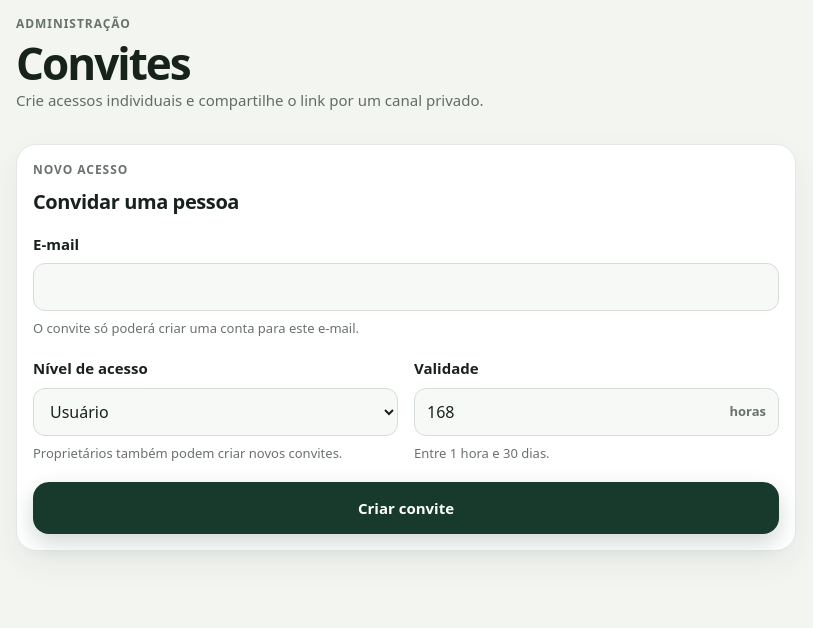
it: administração de convites › valida o DTO no navegador antes de enviar a requisição
This screenshot has width=813, height=628.
Type "endereço-inválido" into the field labelled "E-mail". click: (406, 287)
box: x1=33 y1=263 x2=779 y2=311
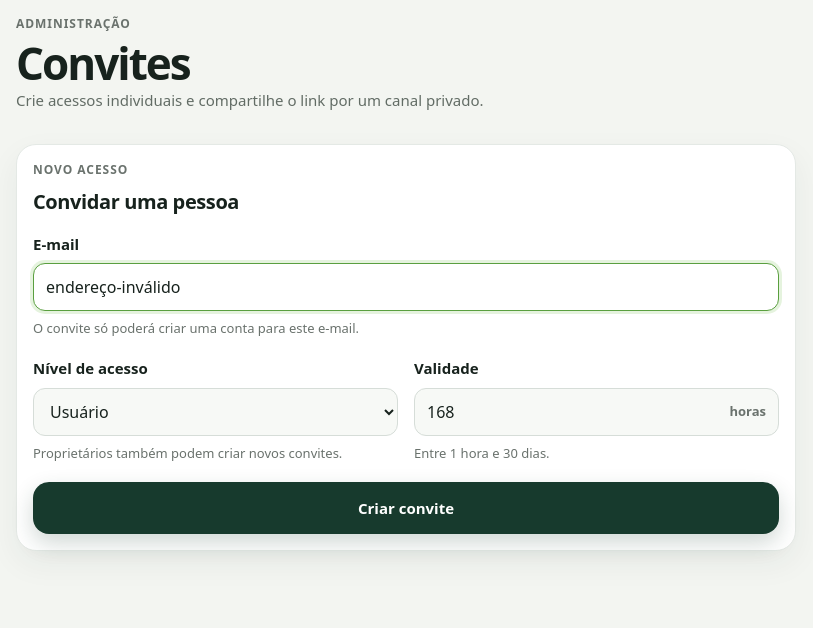
Replace the text in the number field labelled "Validade" with "721". click: (596, 412)
box: x1=414 y1=388 x2=779 y2=436
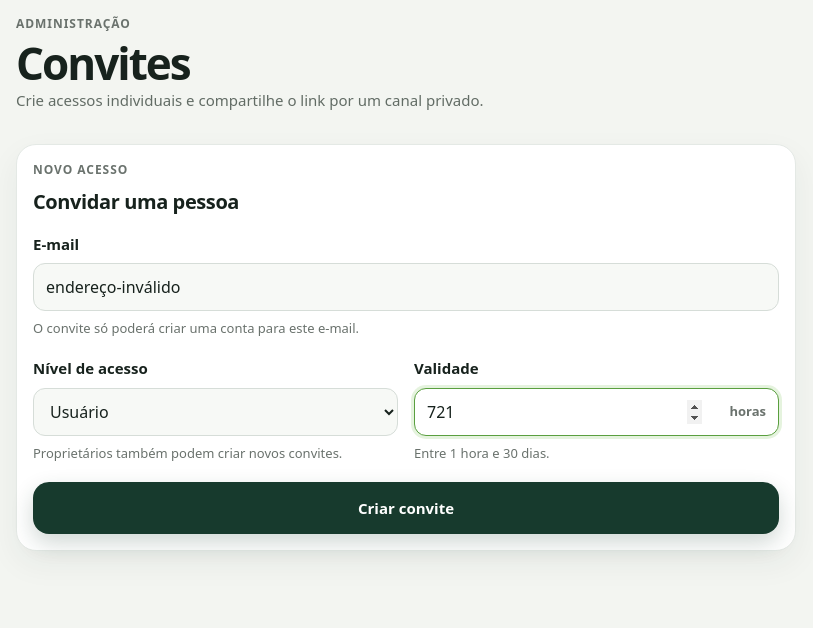
Click the button "Criar convite". click: click(406, 508)
box: x1=33 y1=482 x2=779 y2=534
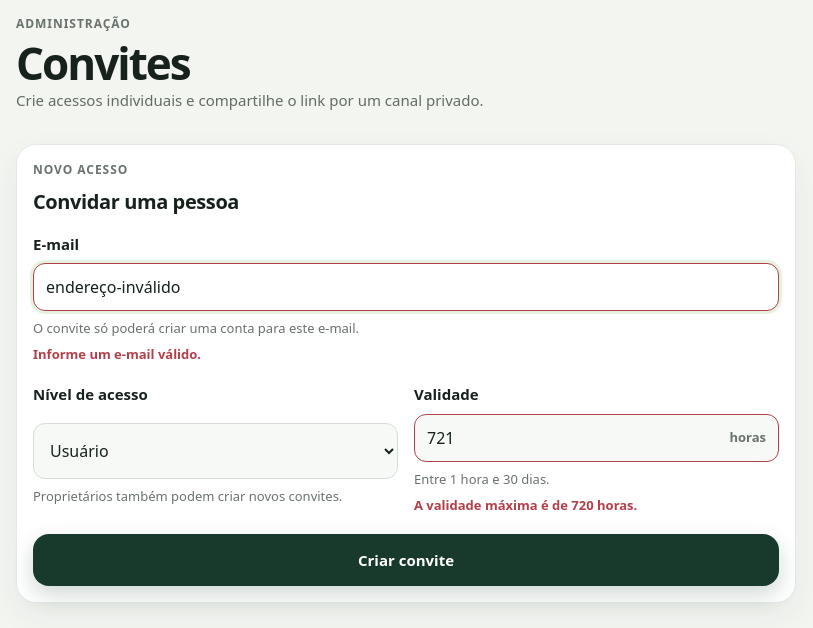
Expected: the text "Informe um e-mail válido." is shown, x1=33 y1=345 x2=201 y2=363
Expected: the text "A validade máxima é de 720 horas." is shown, x1=414 y1=496 x2=637 y2=514
